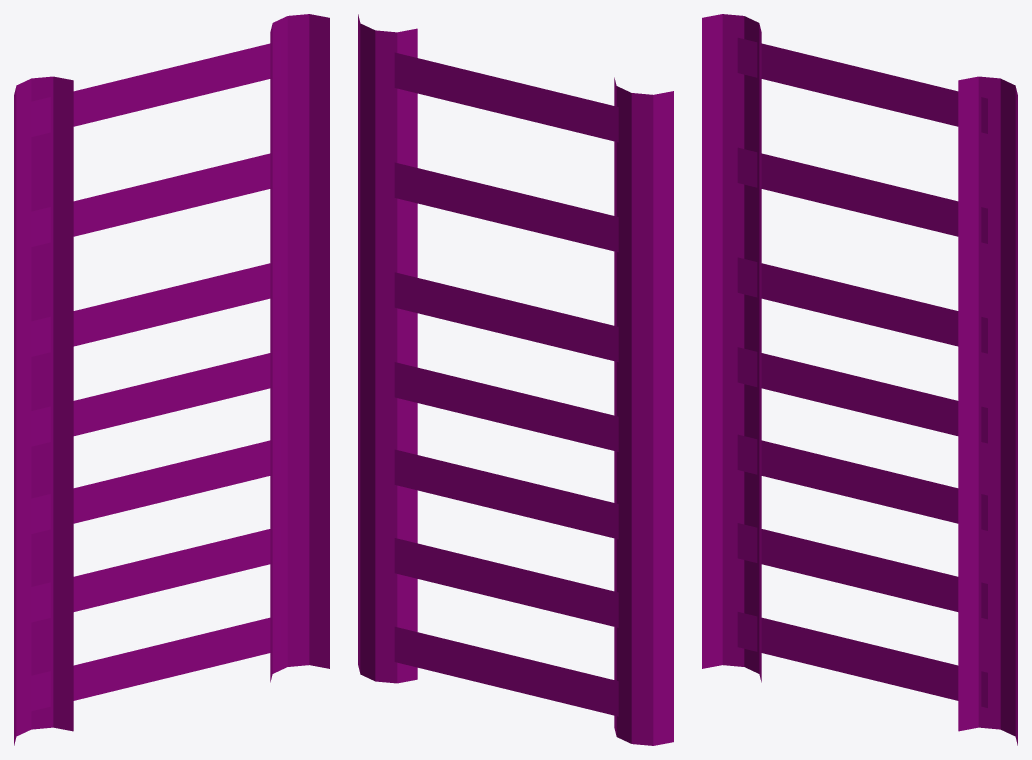
Rendered from ElfHut_Ladder.fbx.
3 views of the same model, side by side, from view 1: azimuth 30°, elevation 25°; view 2: azimuth 150°, elevation 25°; view 3: azimuth 330°, elevation 25° (orthographic).
Visible parts, largest first — view 1: Elf_Ladder1; view 2: Elf_Ladder1; view 3: Elf_Ladder1.
Boxes of the visible parts, x1,y1,x2,y2 form: Elf_Ladder1: [14, 14, 329, 745]; Elf_Ladder1: [358, 14, 673, 745]; Elf_Ladder1: [702, 14, 1017, 745].
Size of the model in its own units: 10.09 by 19.89 by 0.691.
